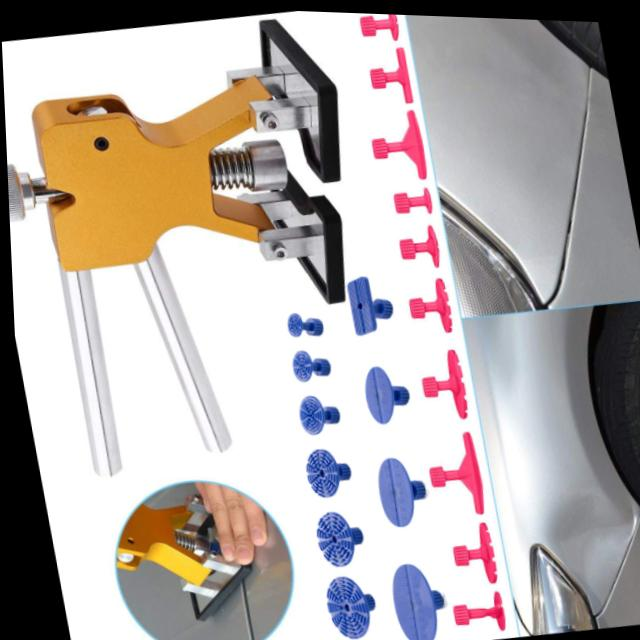Dent: (532, 470, 629, 574)
